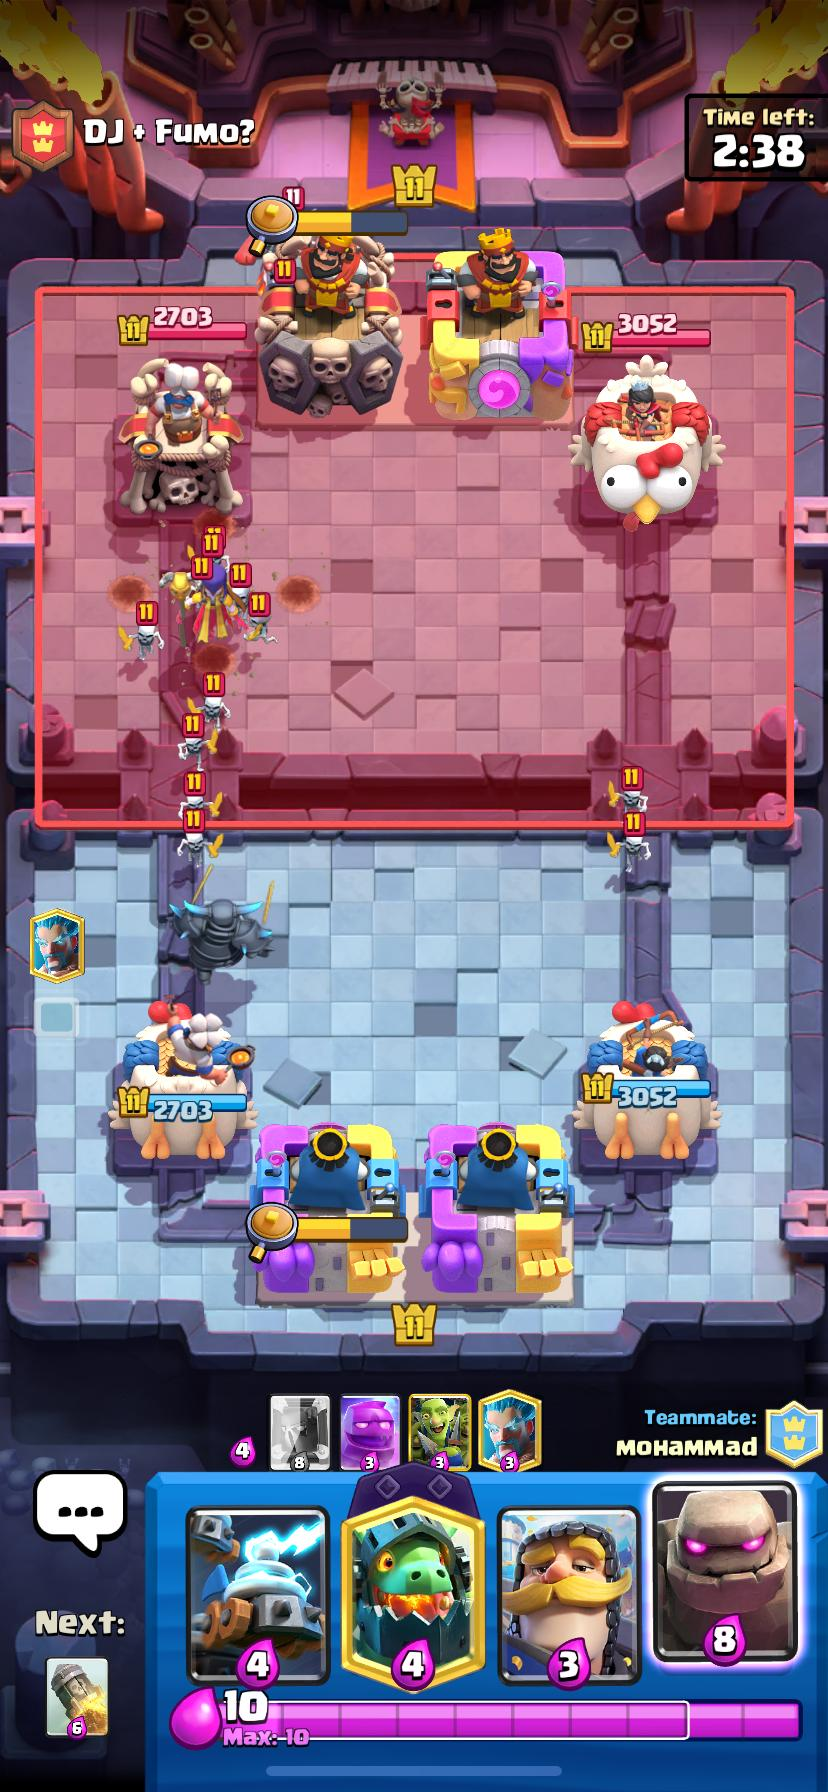EKingTower: (428, 227, 573, 419), (256, 235, 401, 417)
ELarry: (607, 800, 651, 880), (118, 598, 164, 662), (178, 803, 221, 871), (178, 712, 217, 774), (176, 769, 222, 814), (610, 766, 647, 814), (244, 590, 276, 643), (204, 671, 229, 728)
EWitch: (158, 563, 241, 649)
EnemyPanTower: (118, 359, 242, 514)
EnemyPrincessTower: (574, 355, 720, 528)
OBigPekka: (167, 898, 271, 982)
OwnKingTower: (247, 1122, 407, 1298), (421, 1122, 573, 1299)
OwnPanTower: (109, 1003, 256, 1159)
OwnPrincessTower: (580, 1002, 711, 1159)
